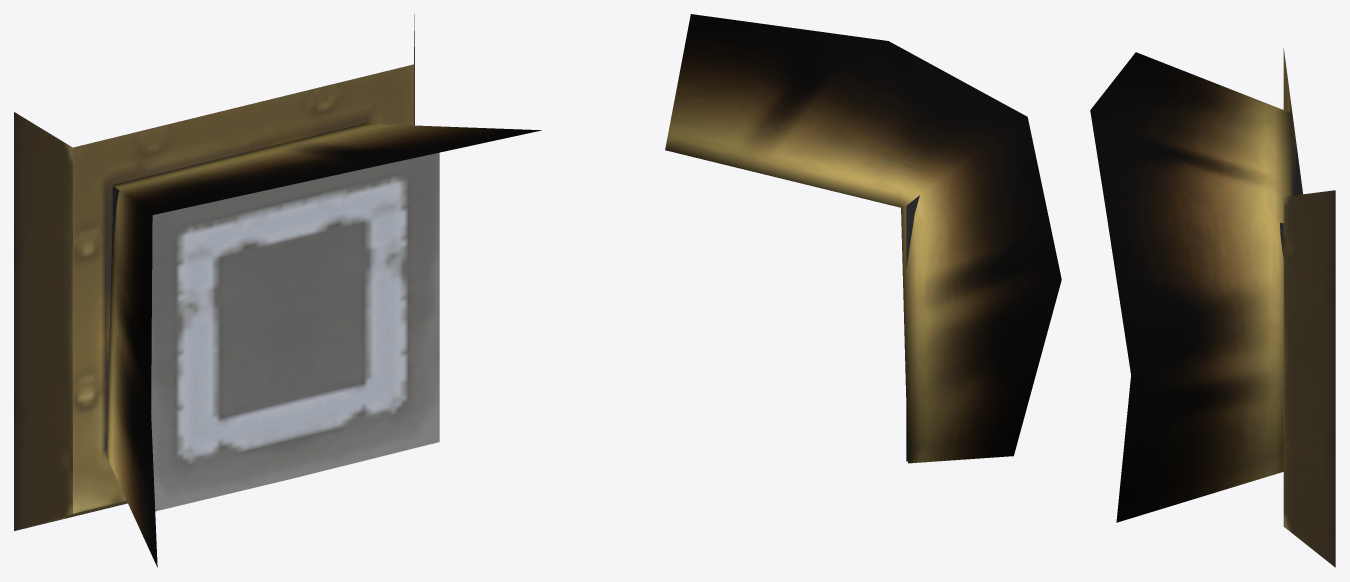
File: model_pressure_onetime.glb
3 views of the same model, side by side, from view 1: azimuth 30°, elevation 25°; view 2: azimuth 150°, elevation 25°; view 3: azimuth 270°, elevation 25° (orthographic). The views are drawn at different scales.
Visible parts, largest first — view 1: button.model_pressure_onetime-MeshNodes["mesh_button"], button.model_pressure_onetime-MeshNodes["mesh_base"], button.model_pressure_onetime-MeshNodes["mesh_aura"]; view 2: button.model_pressure_onetime-MeshNodes["mesh_aura"]; view 3: button.model_pressure_onetime-MeshNodes["mesh_aura"], button.model_pressure_onetime-MeshNodes["mesh_base"].
Boxes of the visible parts, x1=… form: button.model_pressure_onetime-MeshNodes["mesh_button"]: x1=112, y1=152, x2=439, y2=511; button.model_pressure_onetime-MeshNodes["mesh_base"]: x1=14, y1=14, x2=414, y2=530; button.model_pressure_onetime-MeshNodes["mesh_aura"]: x1=106, y1=123, x2=541, y2=567; button.model_pressure_onetime-MeshNodes["mesh_aura"]: x1=665, y1=14, x2=1061, y2=463; button.model_pressure_onetime-MeshNodes["mesh_aura"]: x1=1090, y1=52, x2=1291, y2=522; button.model_pressure_onetime-MeshNodes["mesh_base"]: x1=1283, y1=48, x2=1335, y2=567.
Bounding box in the file's own units: 1 × 1 × 0.5891.
1 material, 1 textured.
